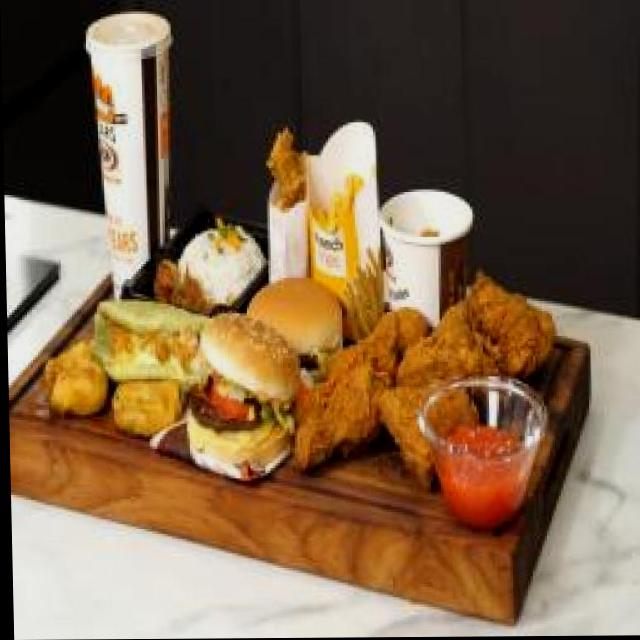AW cola: (73, 0, 193, 300)
black pepper rice bowl: (139, 201, 271, 325)
cheese burger: (245, 271, 352, 387)
chicken waffle: (260, 126, 316, 269)
crispy corn: (375, 190, 476, 326)
french fries: (302, 131, 385, 264)
fried chicken: (290, 262, 554, 486)
mango chicken pocket: (80, 292, 215, 393)
mozza burger: (175, 308, 304, 504)
perkedel: (36, 327, 108, 433), (112, 377, 178, 462)
